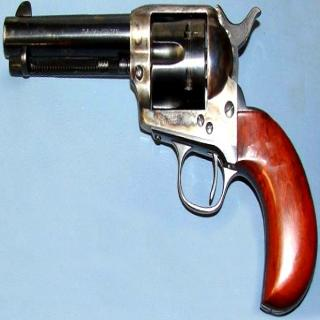gun: (0, 0, 320, 315)
